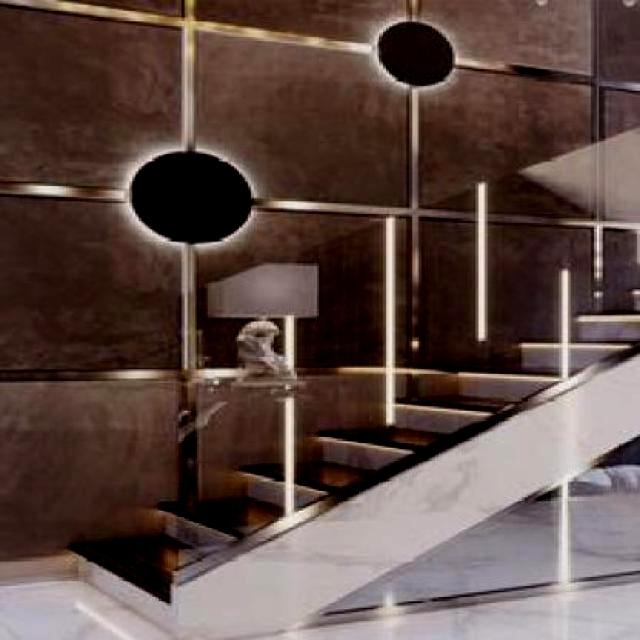stair: (40, 227, 640, 638)
